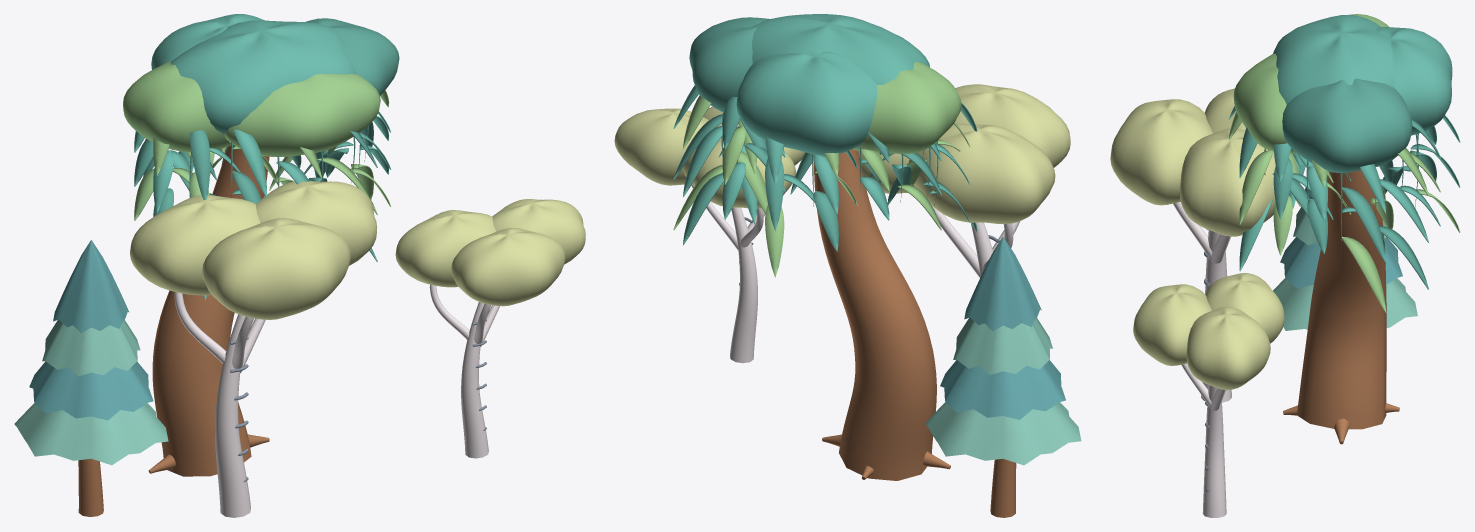
The model's file is role-separated-originals.glb.
3 views of the same model, side by side, from view 1: azimuth 30°, elevation 25°; view 2: azimuth 150°, elevation 25°; view 3: azimuth 270°, elevation 25° (orthographic). The views are drawn at different scales.
Visible parts, largest first — view 1: role-l14-2743, role-l15-2598, role-l14-2234, role-l14-2238, role-l15-2597, role-l29-2598, role-l28-2693, role-l14-2235, role-l15-2596, role-l28-2694, role-l29-2597, role-l15-2608 (+11 smaller); view 2: role-l14-2743, role-l14-2237, role-l15-2597, role-l14-2234, role-l28-2693, role-l14-2235, role-l28-2694, role-l15-2598, role-l14-2236, role-l29-2596, role-l28-2696, role-l28-2695 (+21 smaller); view 3: role-l14-2743, role-l14-2236, role-l14-2234, role-l15-2598, role-l15-2596, role-l29-2596, role-l14-2237, role-l29-2598, role-l14-2238, role-l29-2597, role-l28-2693, role-l29-2608 (+18 smaller).
Part boxes in pixels (x1,y1,x2,y2): role-l14-2743: [152, 145, 269, 476]; role-l15-2598: [202, 218, 350, 319]; role-l14-2234: [170, 20, 356, 134]; role-l14-2238: [224, 74, 380, 156]; role-l15-2597: [130, 195, 260, 295]; role-l29-2598: [451, 228, 565, 306]; role-l28-2693: [14, 403, 168, 465]; role-l14-2235: [123, 60, 231, 152]; role-l15-2596: [255, 181, 377, 265]; role-l28-2694: [29, 361, 153, 420]; role-l29-2597: [395, 210, 495, 287]; role-l15-2608: [215, 314, 250, 517]; role-l14-2743: [814, 149, 936, 480]; role-l14-2237: [736, 52, 877, 155]; role-l15-2597: [909, 123, 1055, 223]; role-l14-2234: [752, 14, 929, 84]; role-l28-2693: [925, 402, 1081, 465]; role-l14-2235: [852, 62, 961, 153]; role-l28-2694: [940, 360, 1065, 419]; role-l15-2598: [955, 84, 1070, 167]; role-l14-2236: [689, 17, 769, 112]; role-l29-2596: [614, 108, 708, 185]; role-l28-2696: [964, 236, 1041, 331]; role-l28-2695: [953, 317, 1052, 374]; role-l14-2743: [1297, 170, 1386, 429]; role-l14-2236: [1282, 78, 1412, 172]; role-l14-2234: [1273, 15, 1394, 104]; role-l15-2598: [1110, 99, 1213, 205]; role-l15-2596: [1180, 128, 1275, 236]; role-l29-2596: [1186, 306, 1270, 390]; role-l14-2237: [1376, 27, 1452, 135]; role-l29-2598: [1133, 284, 1212, 365]; role-l14-2238: [1233, 53, 1296, 153]; role-l29-2597: [1205, 273, 1284, 343]; role-l28-2693: [1273, 278, 1417, 330]; role-l29-2608: [1202, 385, 1226, 517].
Size of the model in its own units: 4.32 by 3.62 by 2.64.
